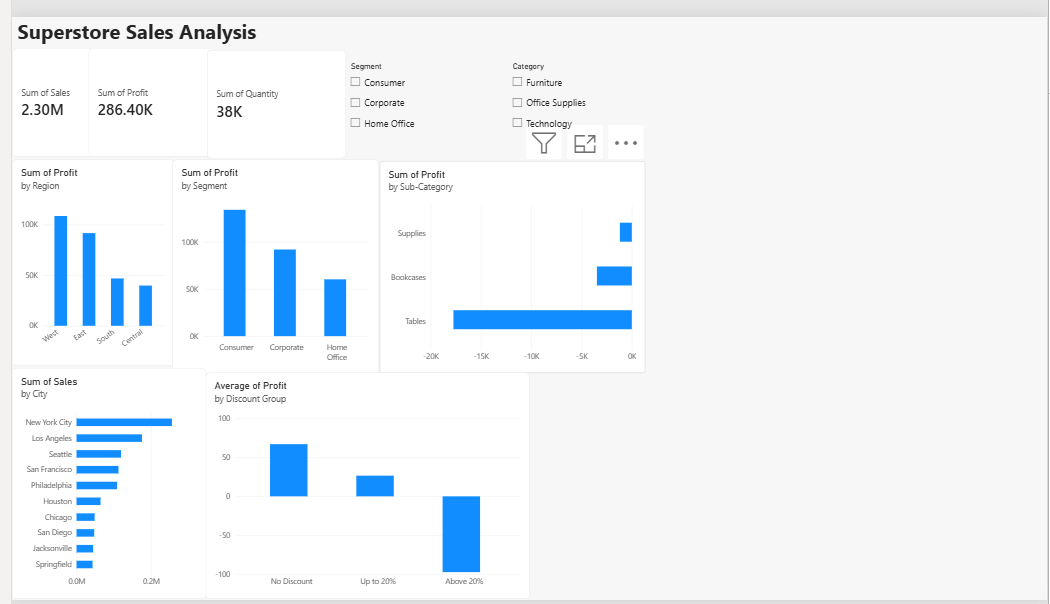

This screenshot's page, from the dashboard's own definition file:
{"tool":"powerbi","page":{"name":"Page 1","canvas":[1920,1080],"ordinal":0},"visuals":[{"type":"cardVisual","fields":{"Data":["Sum(Sales.Sales)"]},"box":[0,59.5,150.2,201.3],"z":0},{"type":"cardVisual","fields":{"Data":["Sum(Sales.Profit)"]},"box":[141.7,59.5,235.3,201.3],"z":1000},{"type":"cardVisual","fields":{"Data":["Sum(Sales.Quantity)"]},"box":[362.8,62.4,258,201.3],"z":2000},{"type":"clusteredColumnChart","fields":{"Category":["Sales.Region"],"Y":["Sum(Sales.Profit)"]},"box":[0,263.6,300.5,382.7],"z":3000},{"type":"clusteredColumnChart","fields":{"Category":["Sales.Segment"],"Y":["Sum(Sales.Profit)"]},"box":[297.6,263.6,382.7,396.9],"z":4000},{"type":"clusteredBarChart","fields":{"Category":["Sales.Sub-Category"],"Y":["Sum(Sales.Profit)"]},"box":[680.3,266.5,493.2,394],"z":5000},{"type":"clusteredColumnChart","fields":{"Category":["Sales.Discount Group"],"Y":["Avg(Sales.Profit)"]},"box":[360,660.5,600.9,419.5],"z":6000},{"type":"slicer","fields":{"Values":["Sales.Segment"]},"box":[620.8,82.2,300.5,181.4],"z":7000},{"type":"slicer","fields":{"Values":["Sales.Category"]},"box":[921.3,82.2,323.2,184.3],"z":8000},{"type":"textbox","box":[48.2,819.2,212.6,260.8],"z":9000},{"type":"textbox","box":[907.1,742.7,161.6,153.1],"z":10000},{"type":"textbox","box":[0,0,816.4,59.5],"z":11000},{"type":"clusteredBarChart","fields":{"Category":["Sales.City"],"Y":["Sum(Sales.Sales)"]},"box":[0,652,360,428],"z":12000}]}

Visuals, with their boxes in screenshot pixels (x1, y1, x2, y2), scaled from the page's 1920x1080 canvas onto the 1050x604 screenshot:
cardVisual - Sum(Sales.Sales): detection(0, 33, 82, 146)
cardVisual - Sum(Sales.Profit): detection(77, 33, 206, 146)
cardVisual - Sum(Sales.Quantity): detection(198, 35, 340, 147)
clusteredColumnChart - Sales.Region x Sum(Sales.Profit): detection(0, 147, 164, 361)
clusteredColumnChart - Sales.Segment x Sum(Sales.Profit): detection(163, 147, 372, 369)
clusteredBarChart - Sales.Sub-Category x Sum(Sales.Profit): detection(372, 149, 642, 369)
clusteredColumnChart - Sales.Discount Group x Avg(Sales.Profit): detection(197, 369, 525, 603)
slicer - Sales.Segment: detection(340, 46, 504, 147)
slicer - Sales.Category: detection(504, 46, 681, 149)
textbox: detection(26, 458, 143, 603)
textbox: detection(496, 415, 584, 501)
textbox: detection(0, 0, 446, 33)
clusteredBarChart - Sales.City x Sum(Sales.Sales): detection(0, 365, 197, 603)
